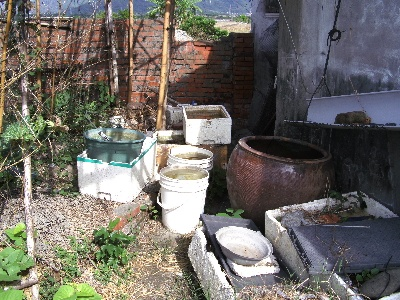bowl: (225, 135, 332, 224), (215, 225, 271, 266), (84, 128, 146, 162)
bucket: (158, 164, 209, 234)
styrofoam: (265, 190, 400, 279), (187, 229, 273, 300), (76, 137, 157, 203), (181, 104, 232, 146)
